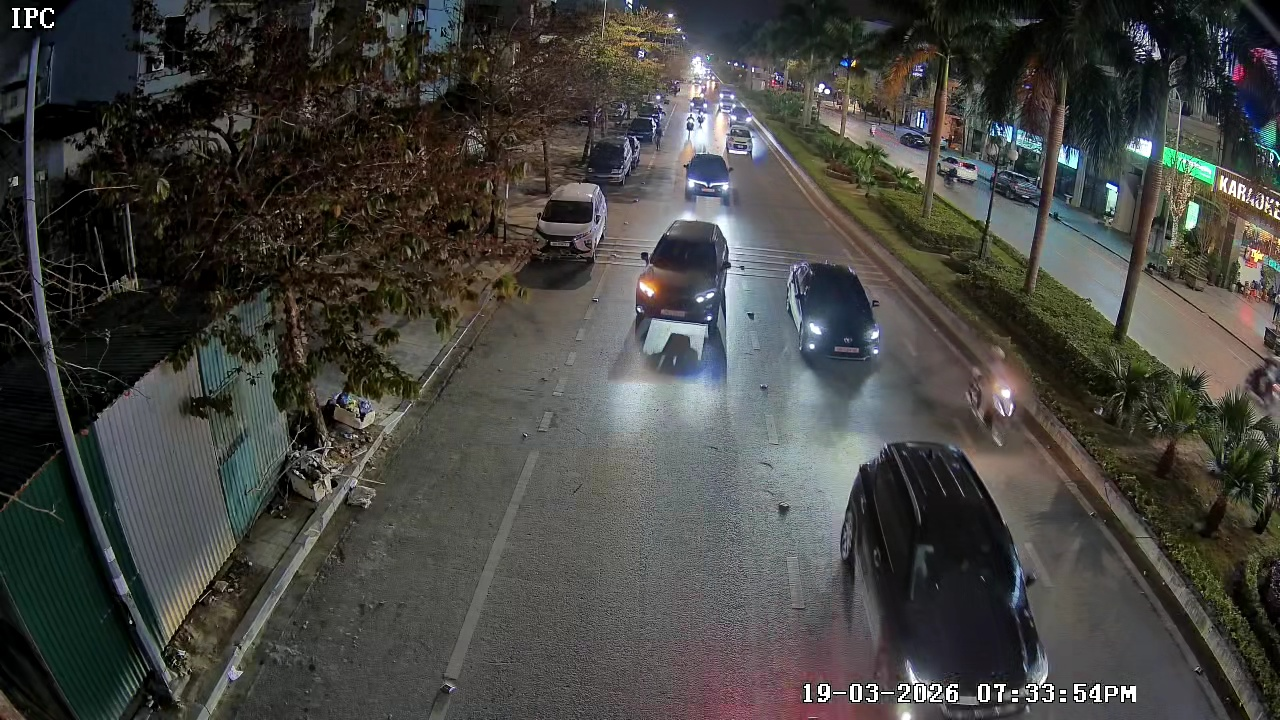car: (835, 438, 1056, 719), (633, 215, 730, 353), (785, 257, 882, 365), (533, 181, 609, 270), (582, 132, 643, 188), (683, 150, 737, 206), (724, 126, 751, 159)
motorbike: (957, 346, 1024, 452), (683, 112, 696, 134)
